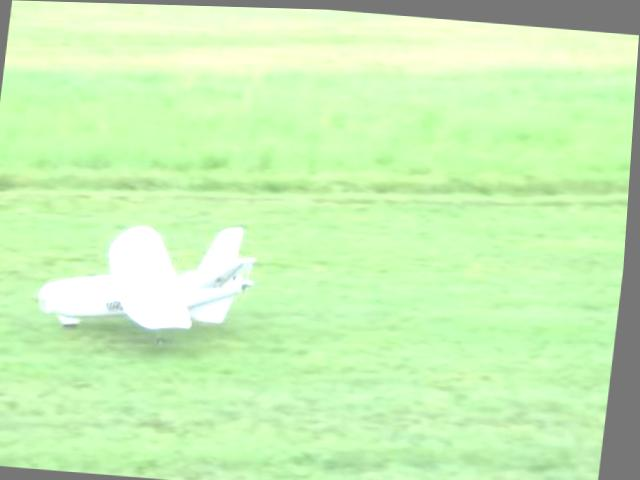uav: (31, 210, 266, 349)
